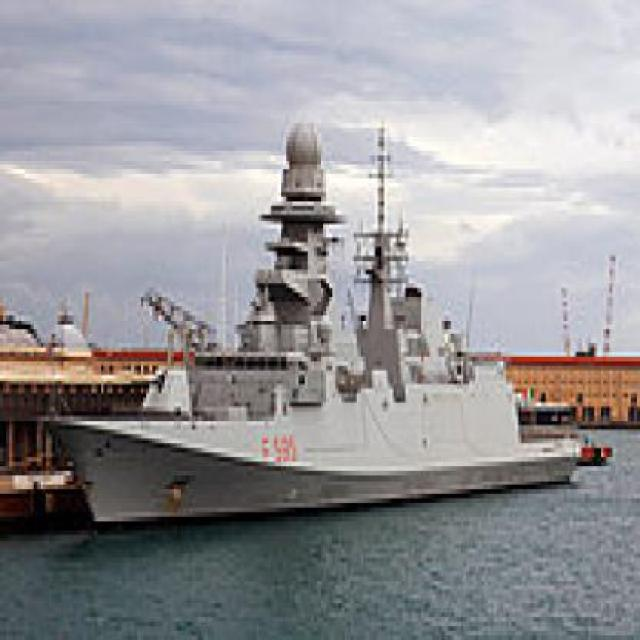warship2: (68, 101, 586, 532)
